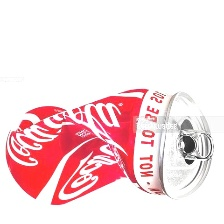can: (3, 80, 222, 217)
